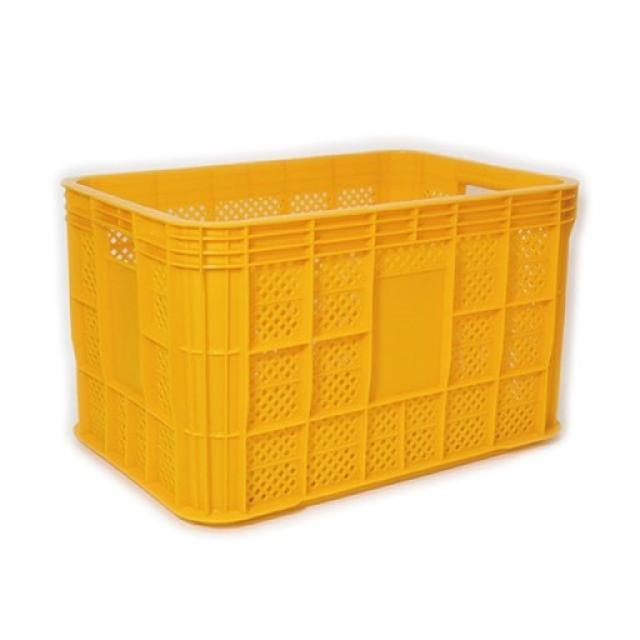basket: (63, 147, 587, 528)
